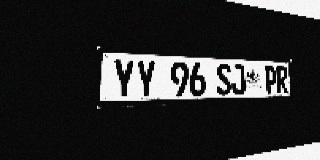6: (189, 62, 206, 96)
9: (171, 61, 189, 97)
J: (231, 64, 245, 95)
P: (264, 66, 277, 94)
R: (276, 66, 288, 94)
S: (216, 63, 231, 96)
Y: (113, 59, 135, 99), (135, 60, 156, 98)
